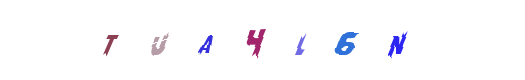4: (228, 0, 308, 80)
6: (293, 0, 373, 80)
A: (222, 0, 302, 80)
L: (269, 0, 349, 80)
N: (304, 0, 384, 80)
T: (131, 0, 211, 80)
U: (172, 0, 252, 80)
